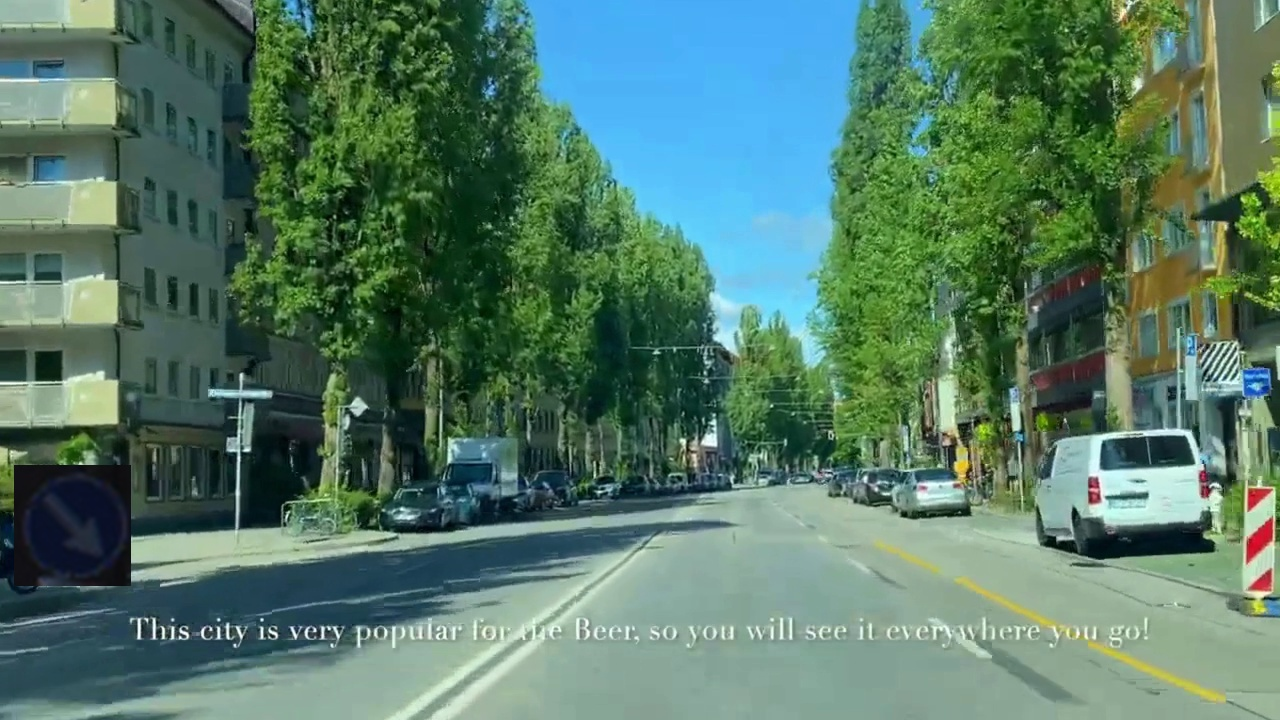Keep right: (14, 465, 131, 586)
